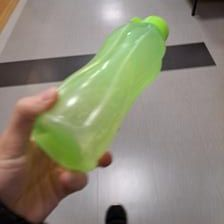bottle: (32, 14, 172, 174)
